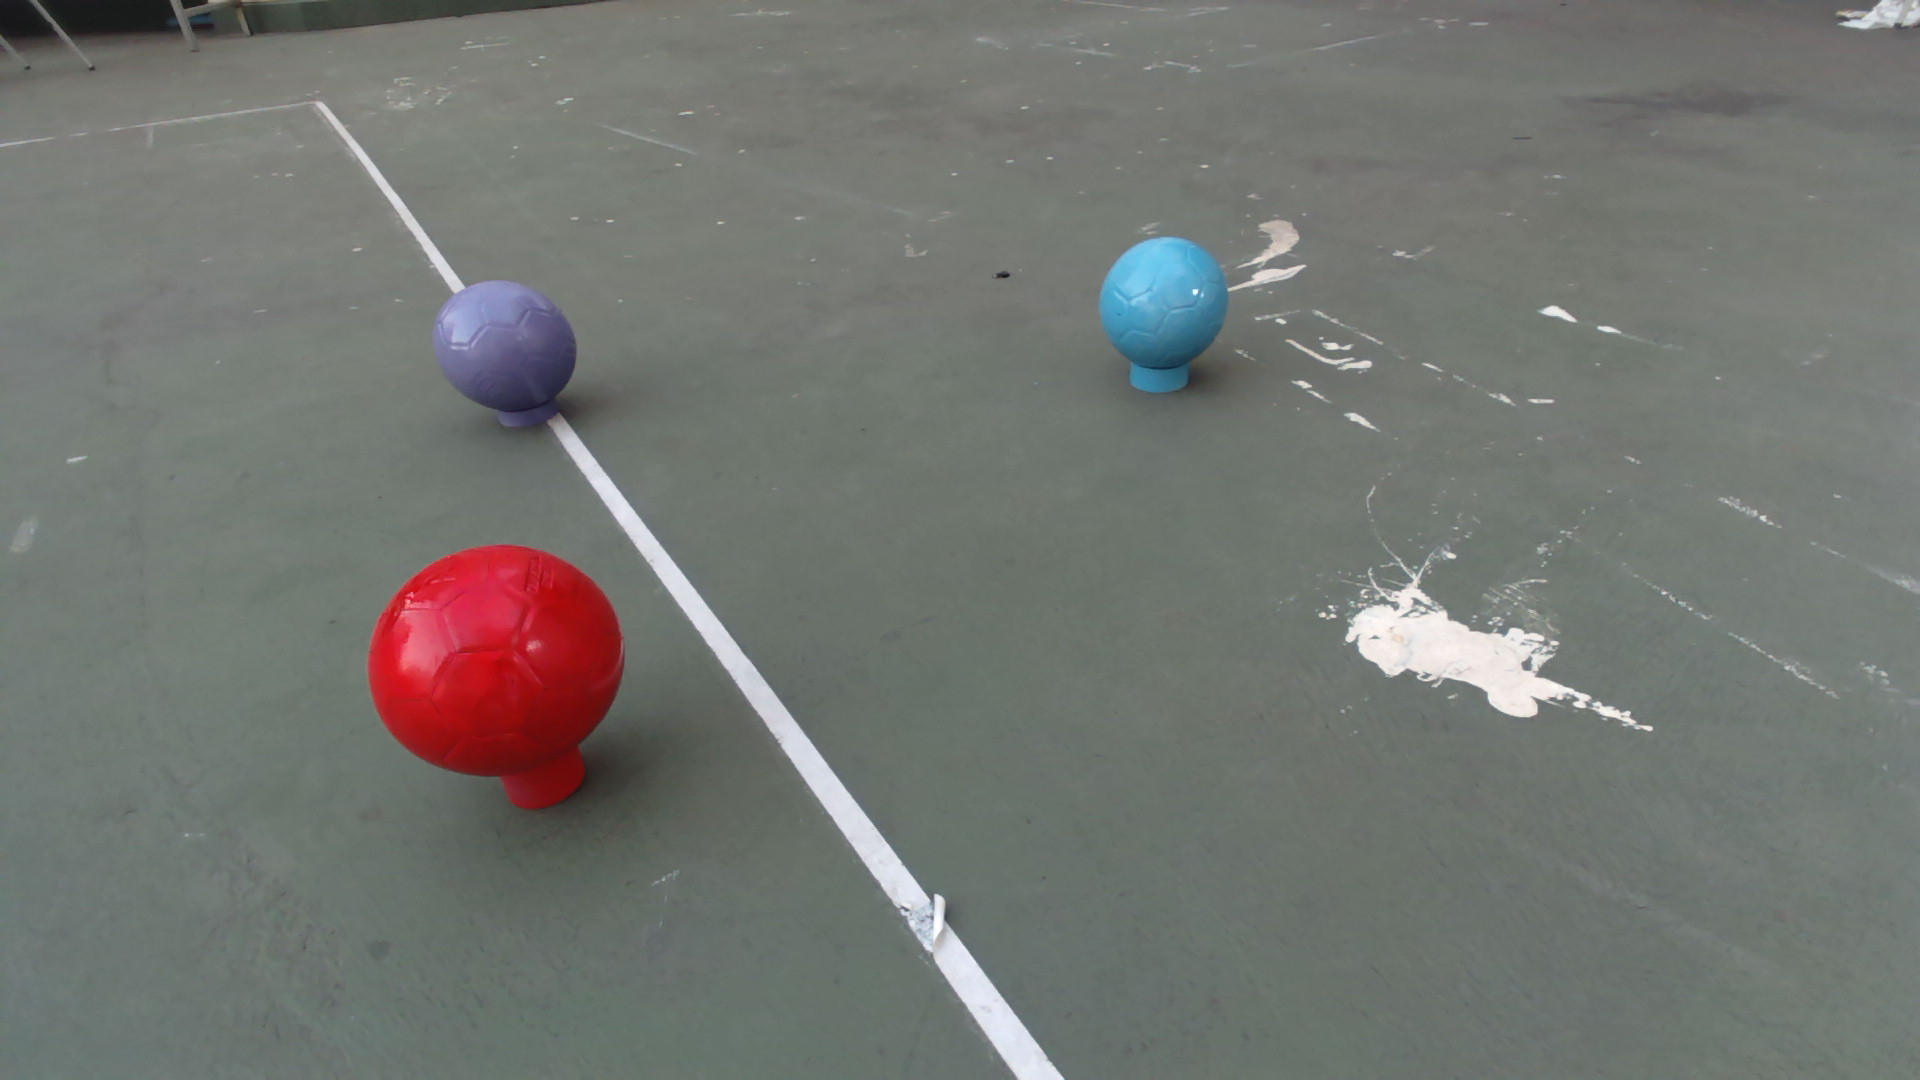Blue ball: (1096, 233, 1230, 372)
Purple ball: (430, 277, 582, 414)
Red ball: (365, 539, 628, 781)
